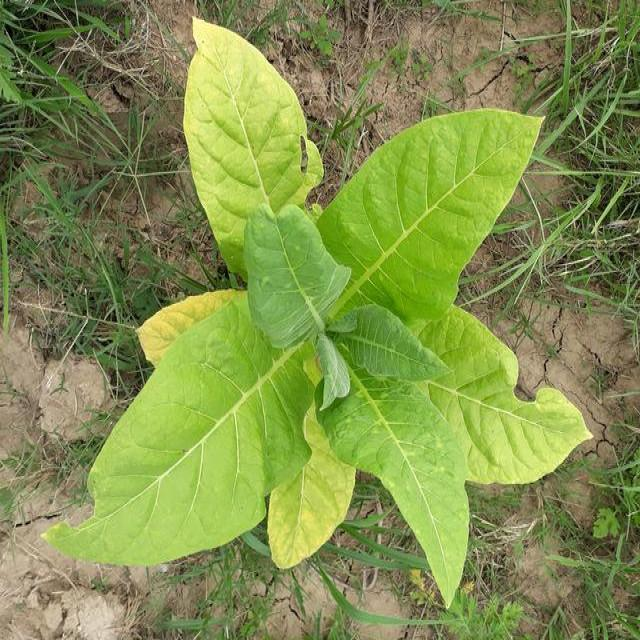crop: (72, 11, 602, 599)
